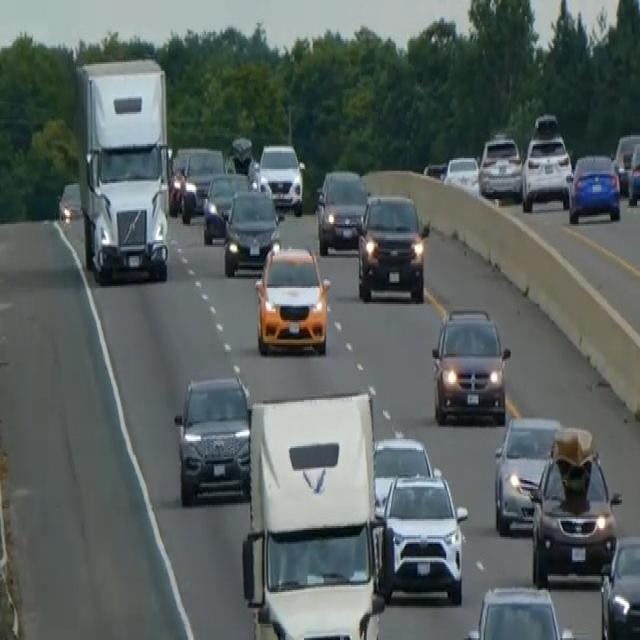car: (529, 423, 621, 587), (376, 468, 468, 604), (173, 371, 252, 505), (430, 304, 511, 425), (253, 240, 331, 356), (493, 413, 561, 535), (356, 190, 428, 302), (462, 582, 575, 638), (520, 112, 573, 212), (222, 185, 279, 275), (372, 434, 434, 514), (315, 166, 368, 254), (599, 532, 639, 638), (567, 151, 621, 224), (201, 169, 249, 245), (258, 141, 305, 215), (179, 146, 224, 222), (477, 131, 522, 201), (613, 132, 639, 194), (167, 146, 191, 212), (442, 153, 479, 194), (57, 180, 82, 222), (627, 137, 639, 206), (422, 158, 447, 180)
lorry: (240, 388, 385, 638), (73, 55, 173, 283)
